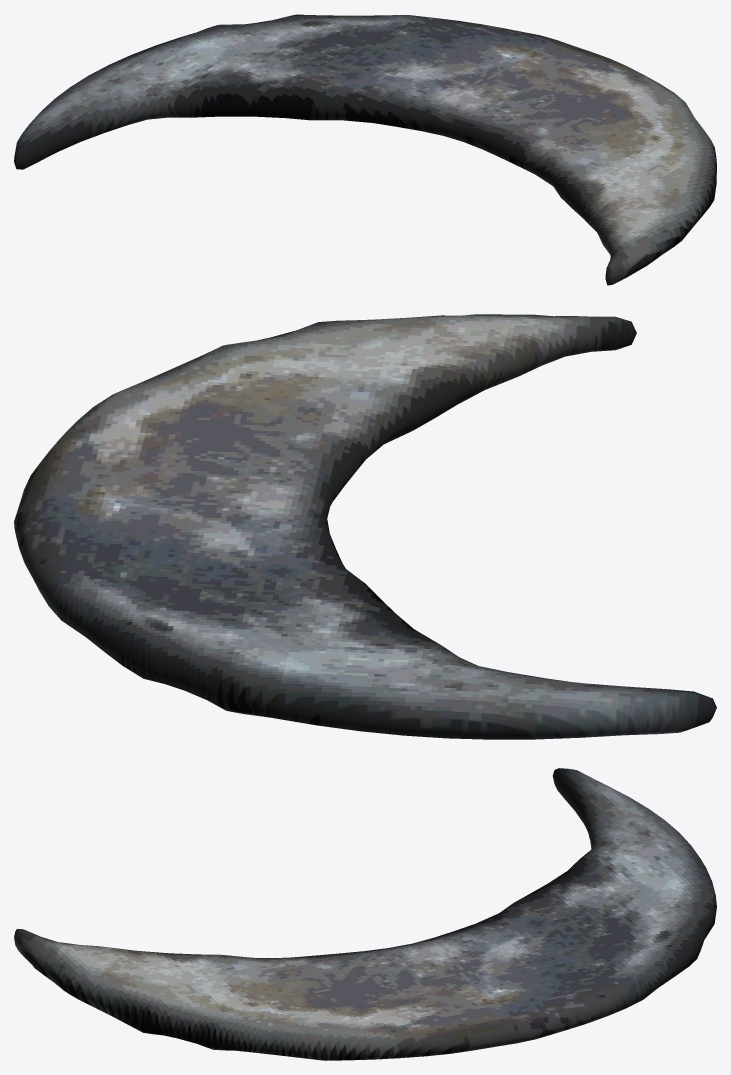
The model's file is luna.glb.
3 renders of one model, top to bottom at view 1: azimuth 30°, elevation 25°; view 2: azimuth 150°, elevation 25°; view 3: azimuth 270°, elevation 25°, orthographic. The views are drawn at different scales.
Parts seen in each view (by area): view 1: moon; view 2: moon; view 3: moon.
Part boxes in pixels (x1,y1,x2,y2): moon: [14, 14, 716, 285]; moon: [14, 314, 716, 739]; moon: [14, 768, 716, 1060].
Size of the model in its own units: 0.6269 by 0.0297 by 0.6726.
1 material, 1 textured.
